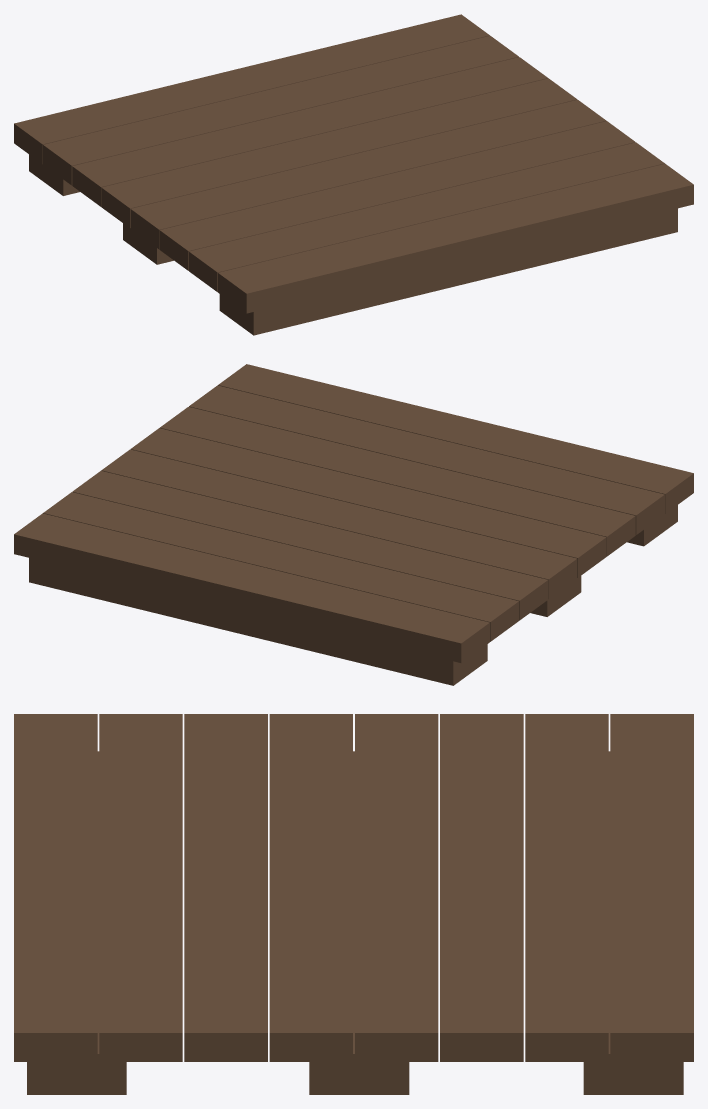
Rendered from Pallet.fbx.
The picture shows the model from 3 angles, top to bottom: view 1: azimuth 30°, elevation 25°; view 2: azimuth 150°, elevation 25°; view 3: azimuth 270°, elevation 25°; orthographic projection. The views are drawn at different scales.
Visible parts, largest first — view 1: Cubo.019; view 2: Cubo.019; view 3: Cubo.019.
Part boxes in pixels (box(x1,y1,x2,y2)): Cubo.019: box(14, 14, 693, 335); Cubo.019: box(14, 364, 693, 685); Cubo.019: box(14, 714, 693, 1094).
Bounding box in the file's own units: 518 × 52.93 × 466.
